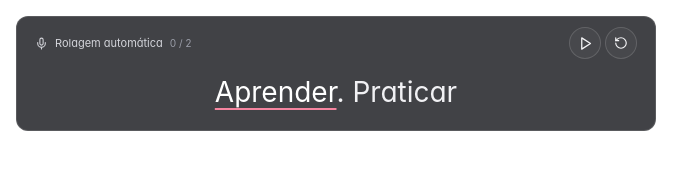
Test: teleprompter real com reconhecimento na fronteira do navegador › modo automático respeita pausa de pontuação, pausa/reinicia manualmente e não abre reconhecimento
Later steps or results of the test are not shown.
Click the button named "Ensaiar leitura" at (585, 43), box x1=569 y1=27 x2=601 y2=59
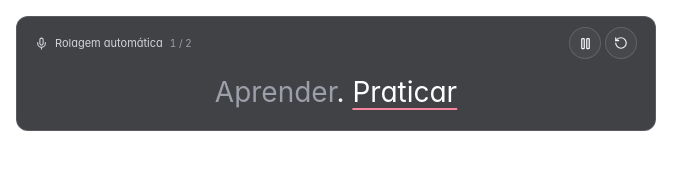
Expected: the number of elements with class "is-read" is 1, x1=215 y1=75 x2=336 y2=109
Click the button named "Pausar leitura" at (585, 43), box x1=569 y1=27 x2=601 y2=59
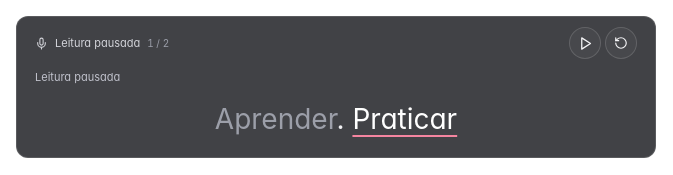
Expected: the button named "Reiniciar leitura" is shown, x1=605 y1=27 x2=637 y2=59
Expected: the number of elements with class "is-read" is 1, x1=215 y1=102 x2=336 y2=136
